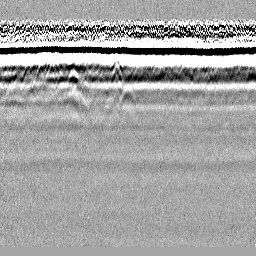cavity: (118, 81, 137, 108)
